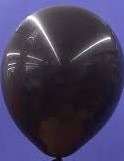Balloon: (1, 5, 124, 157)
